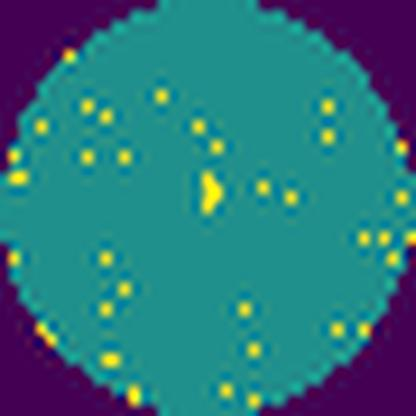Center: (193, 162, 229, 219)
